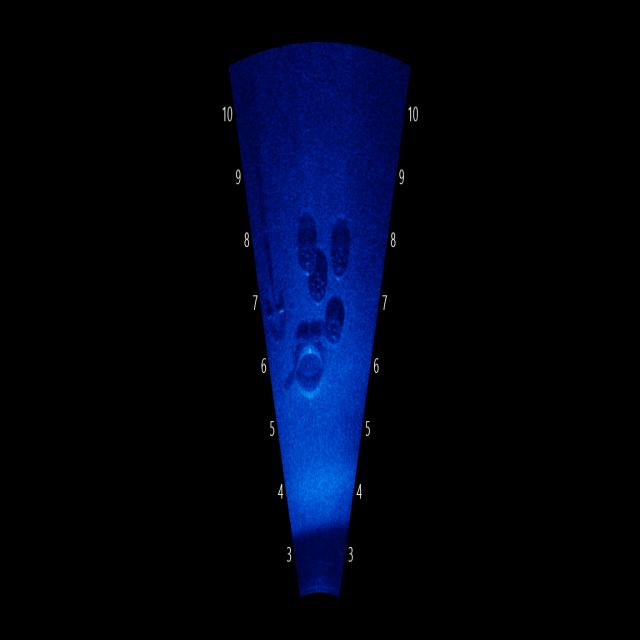circle: (291, 346, 337, 408), (320, 214, 356, 280), (290, 218, 322, 278), (319, 296, 352, 353), (305, 247, 333, 311)
